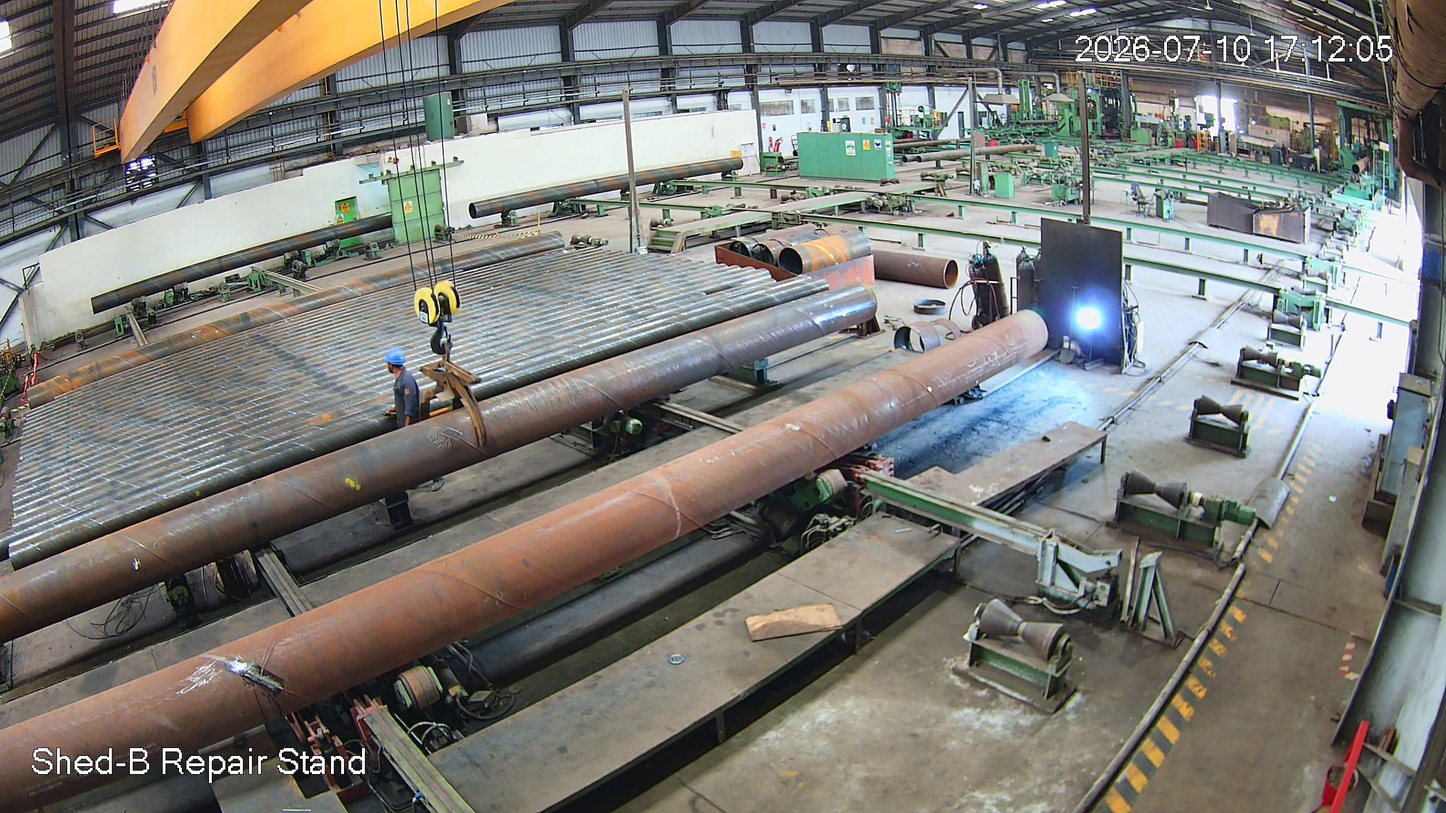Helmet: (381, 345, 409, 378)
Person: (382, 348, 431, 441)
